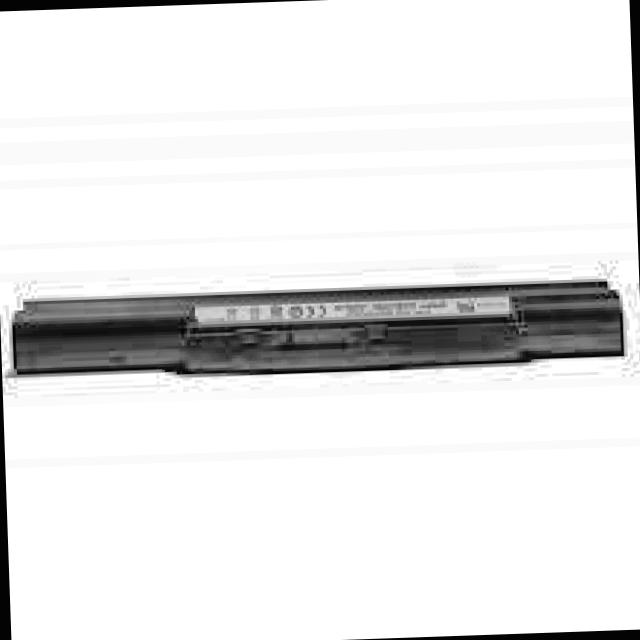Battery: (0, 271, 634, 397)
